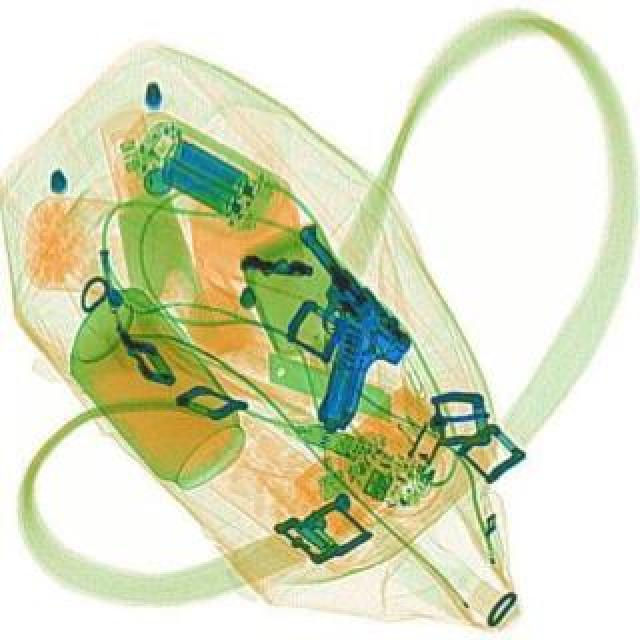gun: (210, 216, 434, 436)
